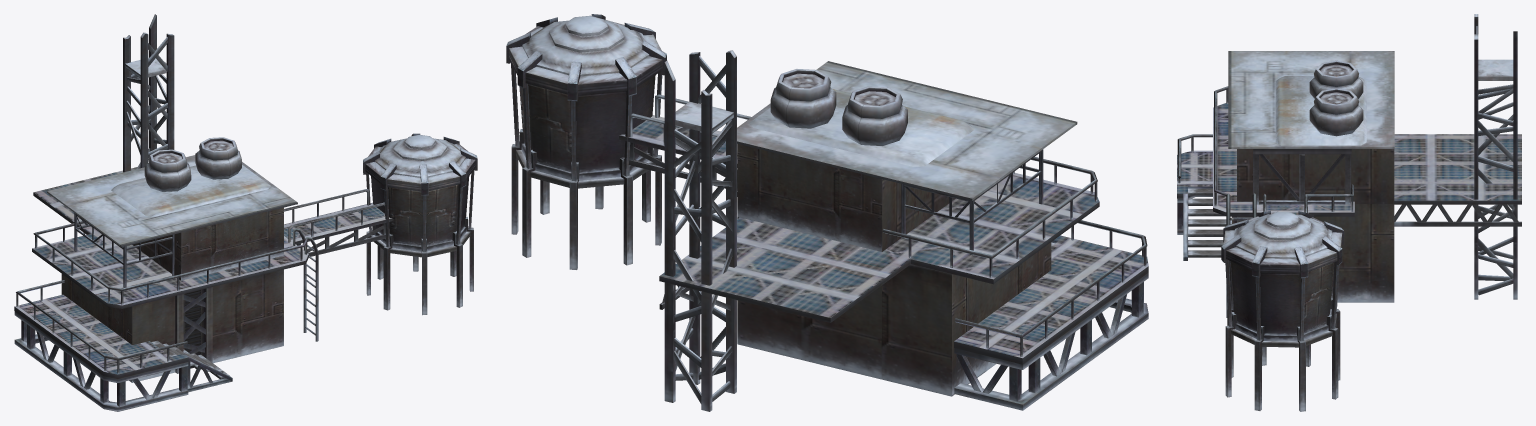
File: yw_wanglingzhita_tielou.FBX
The picture shows the model from 3 angles, left to right: view 1: azimuth 30°, elevation 25°; view 2: azimuth 150°, elevation 25°; view 3: azimuth 270°, elevation 25°; orthographic projection. The views are drawn at different scales.
Parts seen in each view (by area): view 1: yw_wanglingzhita_tielou; view 2: yw_wanglingzhita_tielou; view 3: yw_wanglingzhita_tielou.
Part boxes in pixels (left/top/right/bottom): yw_wanglingzhita_tielou: left=14, top=14, right=477, bottom=411; yw_wanglingzhita_tielou: left=506, top=14, right=1148, bottom=411; yw_wanglingzhita_tielou: left=1177, top=14, right=1521, bottom=411.
Size of the model in its own units: 1753 by 1002 by 1157.
Materials: 1 (1 with a texture image).
